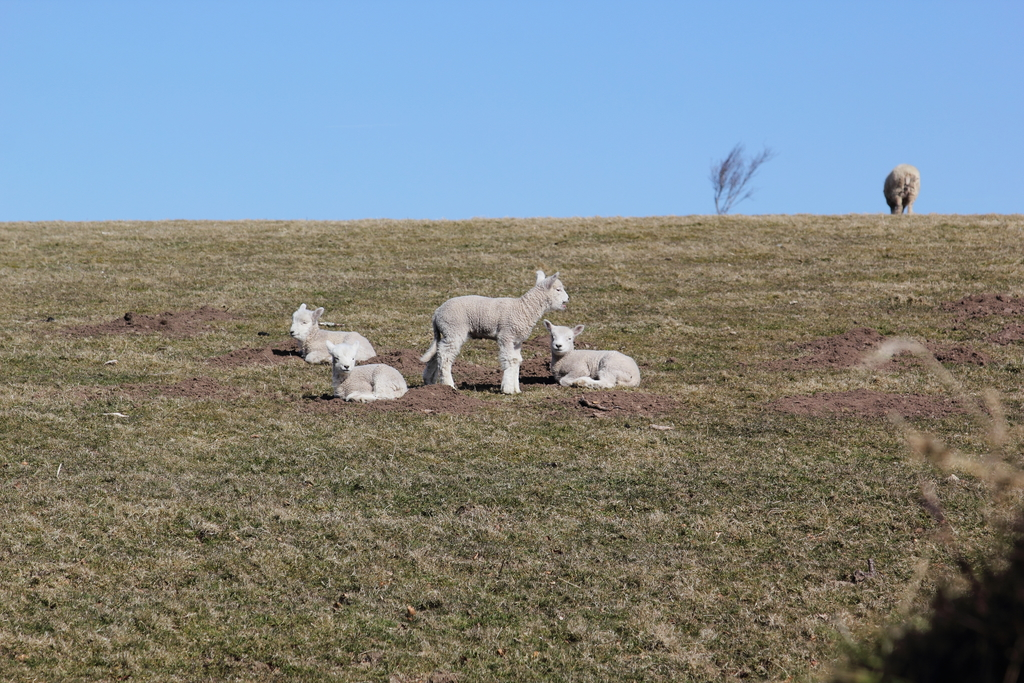sheep: (416, 271, 567, 394), (544, 319, 640, 388), (327, 340, 410, 401)
